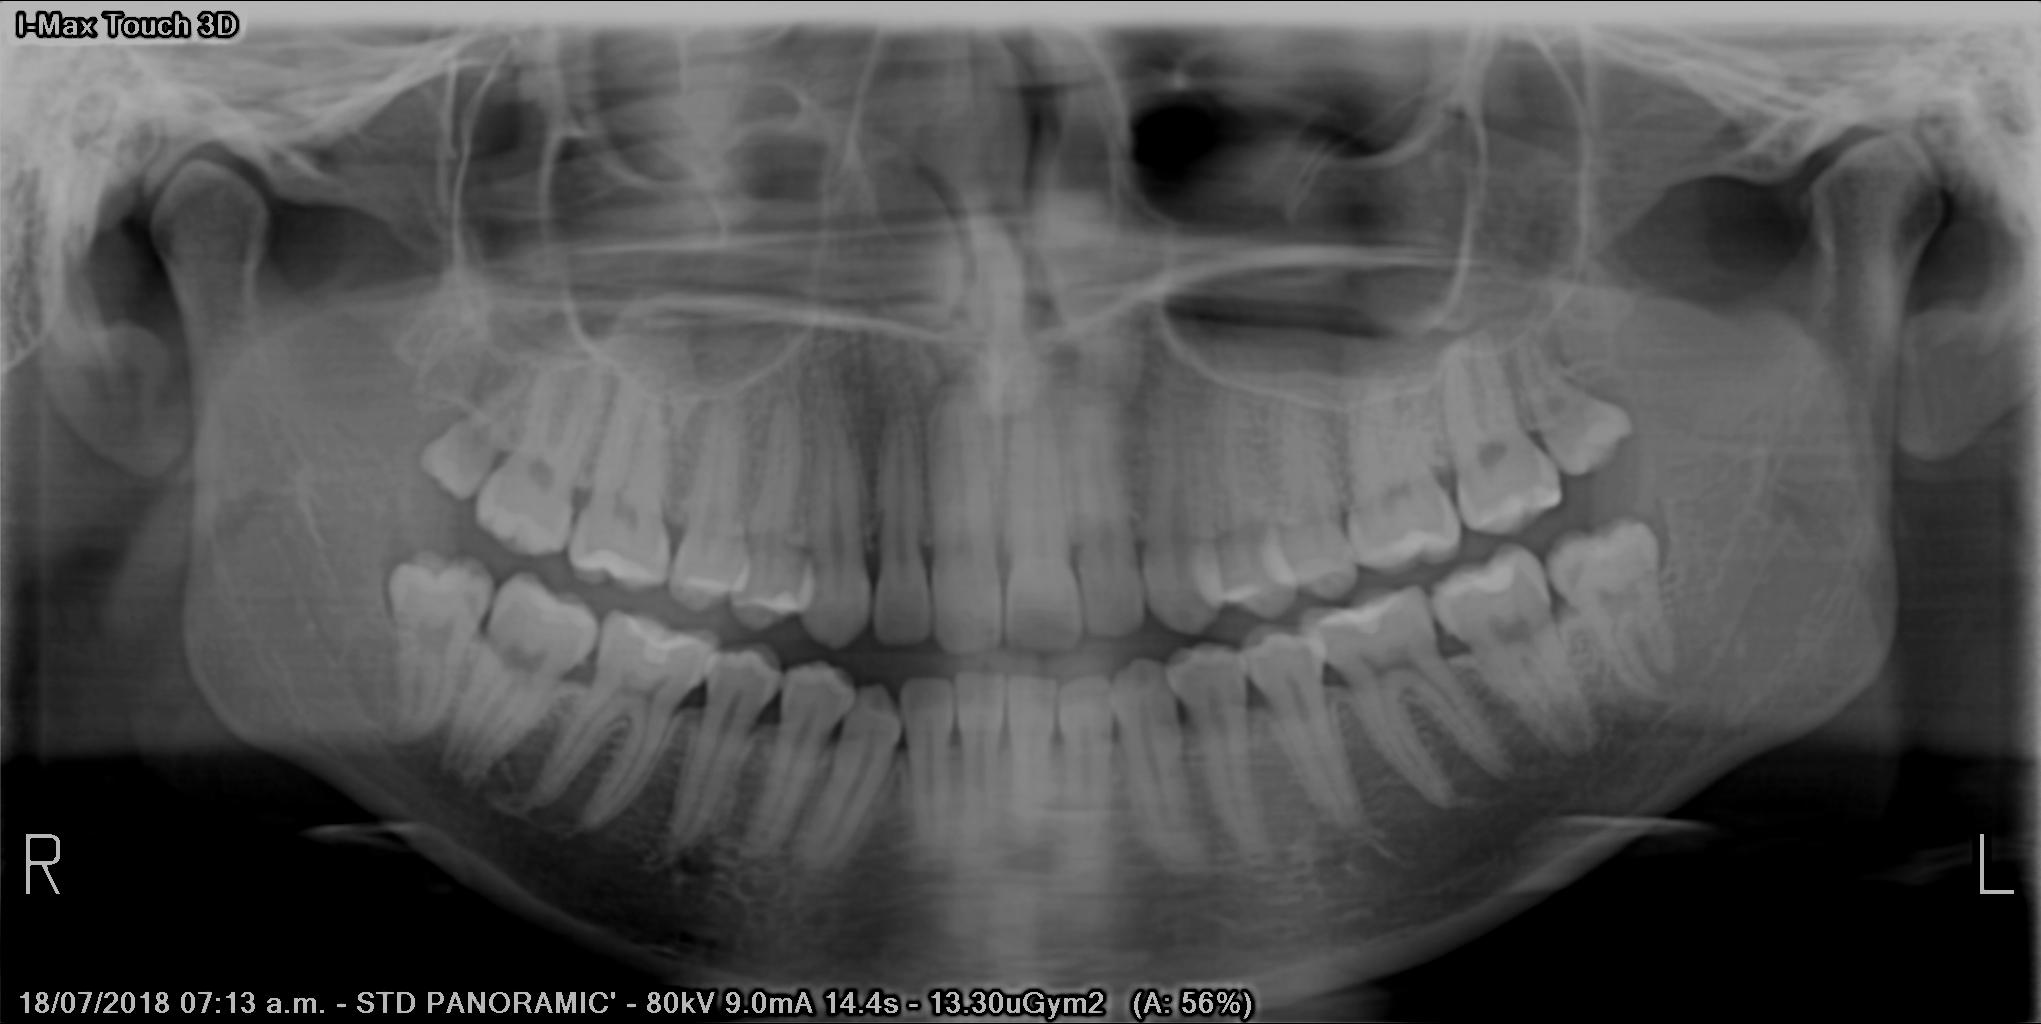Çürük: (1348, 600, 1392, 654), (640, 631, 684, 672)
